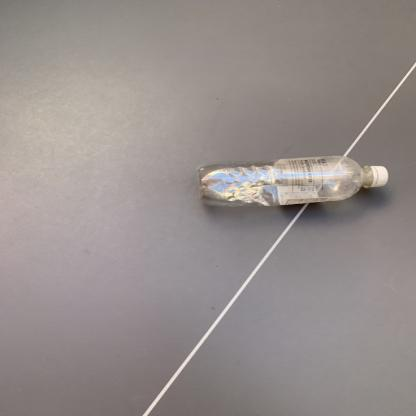trash: (198, 152, 388, 209)
